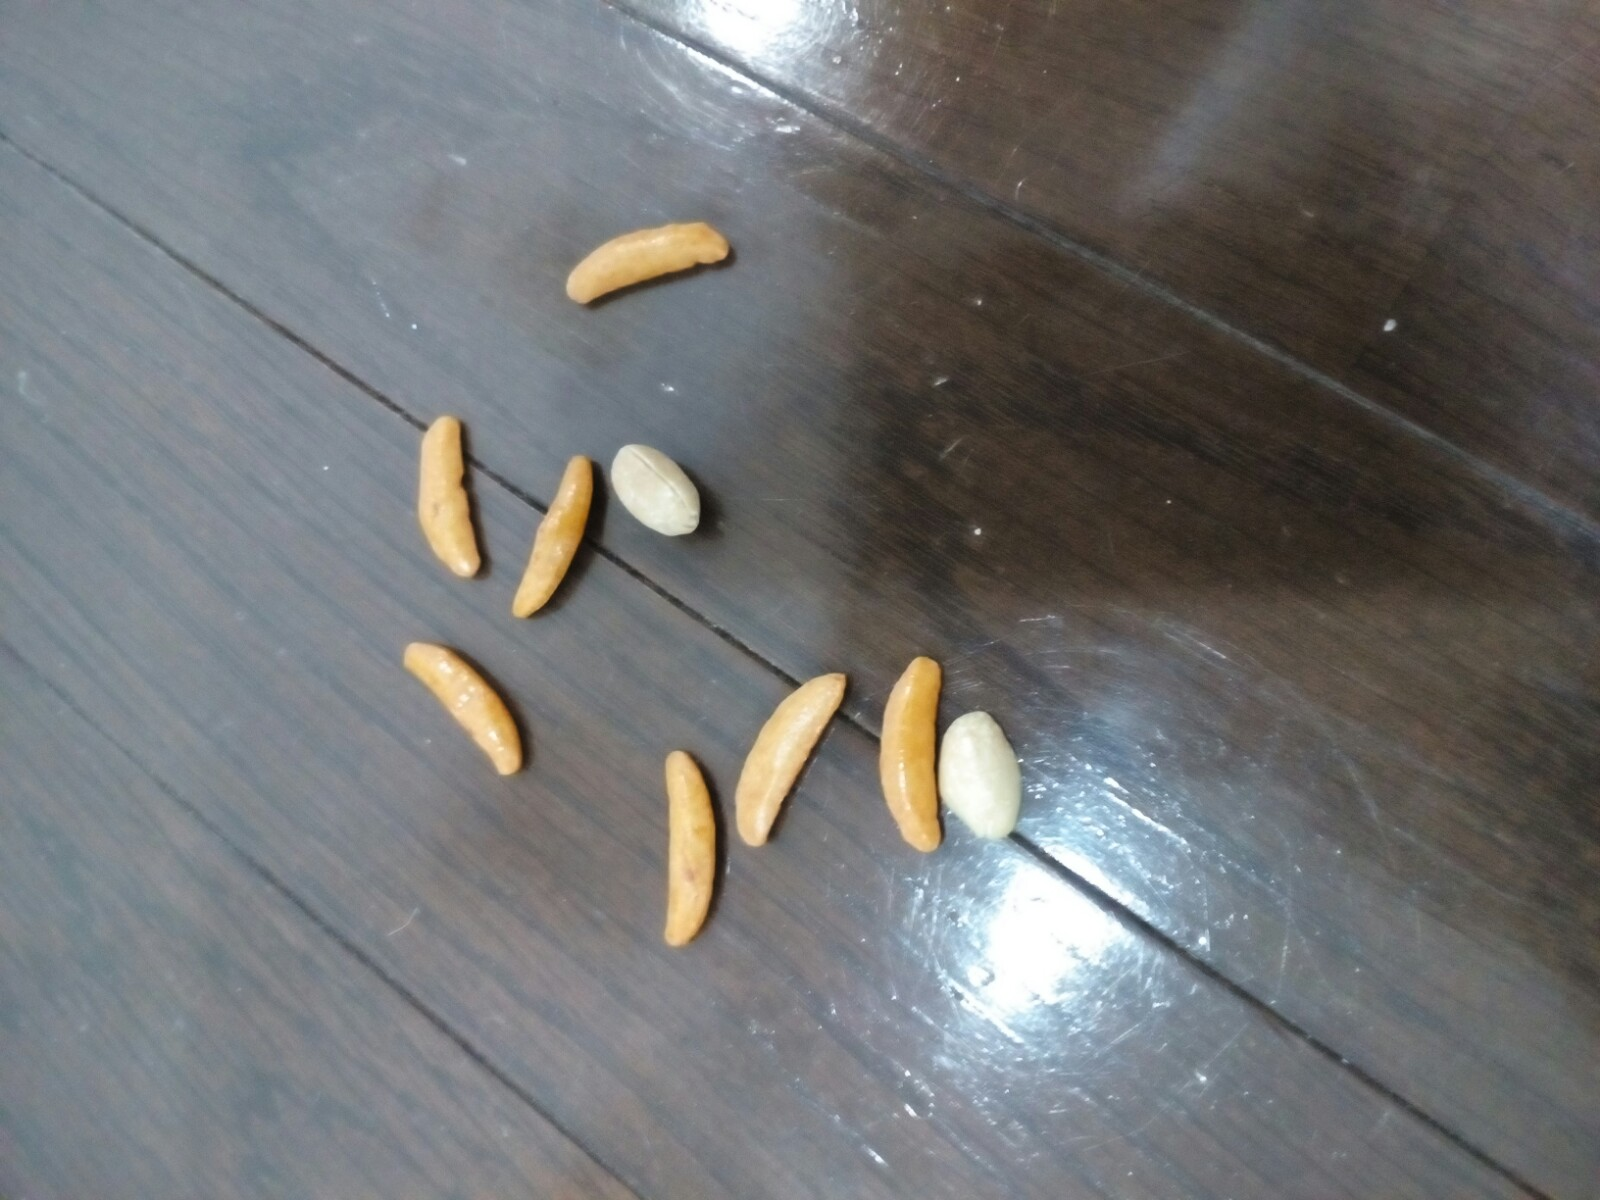peanut: (925, 706, 1037, 847), (605, 437, 711, 541)
